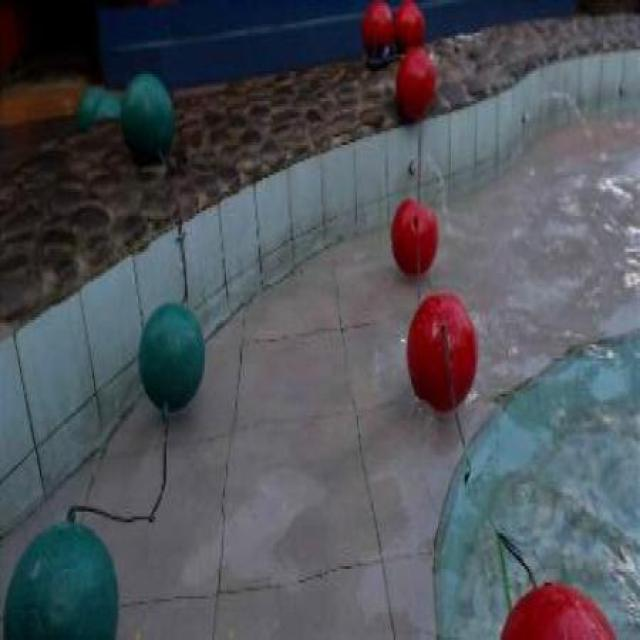buoy: (5, 518, 120, 636), (405, 288, 478, 412), (137, 302, 204, 409), (497, 581, 618, 639), (122, 71, 174, 159), (391, 197, 437, 274), (396, 45, 436, 119), (361, 1, 393, 59), (392, 1, 422, 53)
